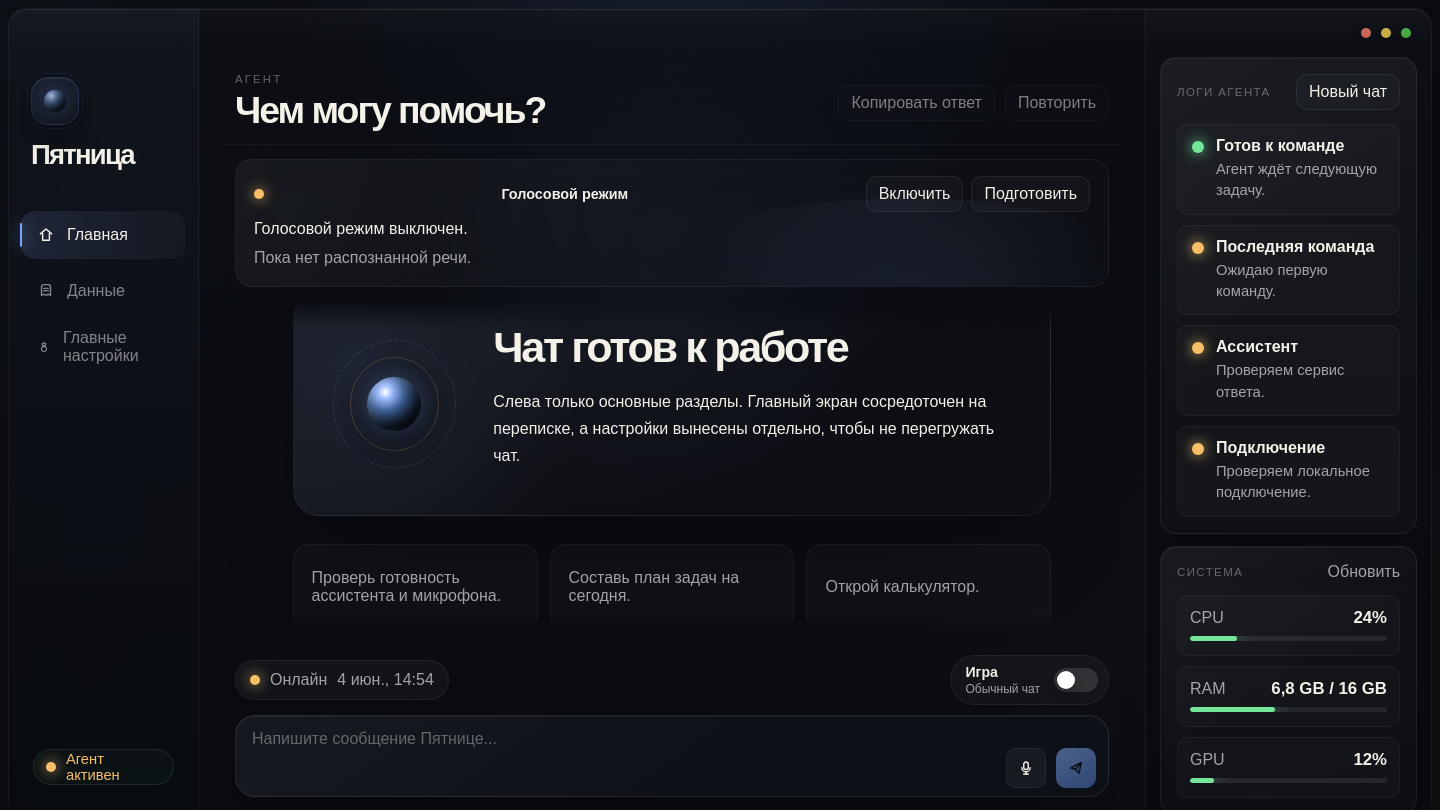
Test: FridayApp › holds the microphone button, transcribes speech, and puts text into the composer
Press the mouse on the button named "Голосовой ввод" at {"x": 1026, "y": 768}, box [1006,748,1046,788]
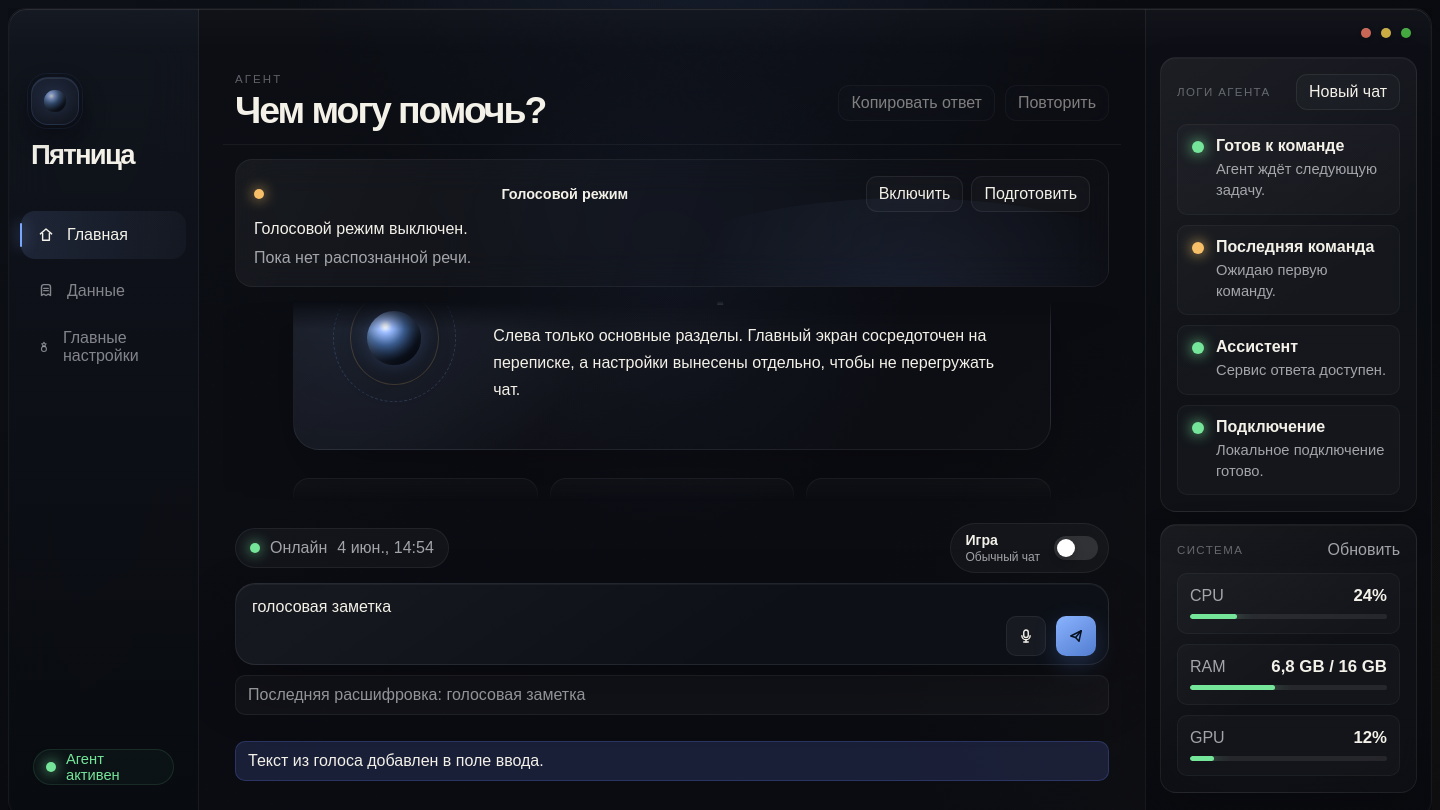
Result: the text box named "сообщение" holds "голосовая заметка" at [252,584,992,664]
